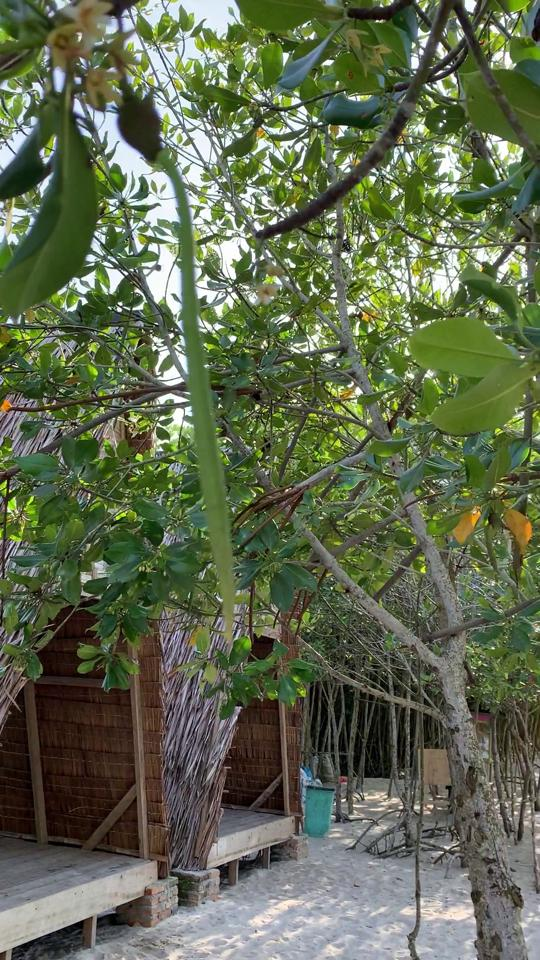mentah: (109, 73, 256, 660)
